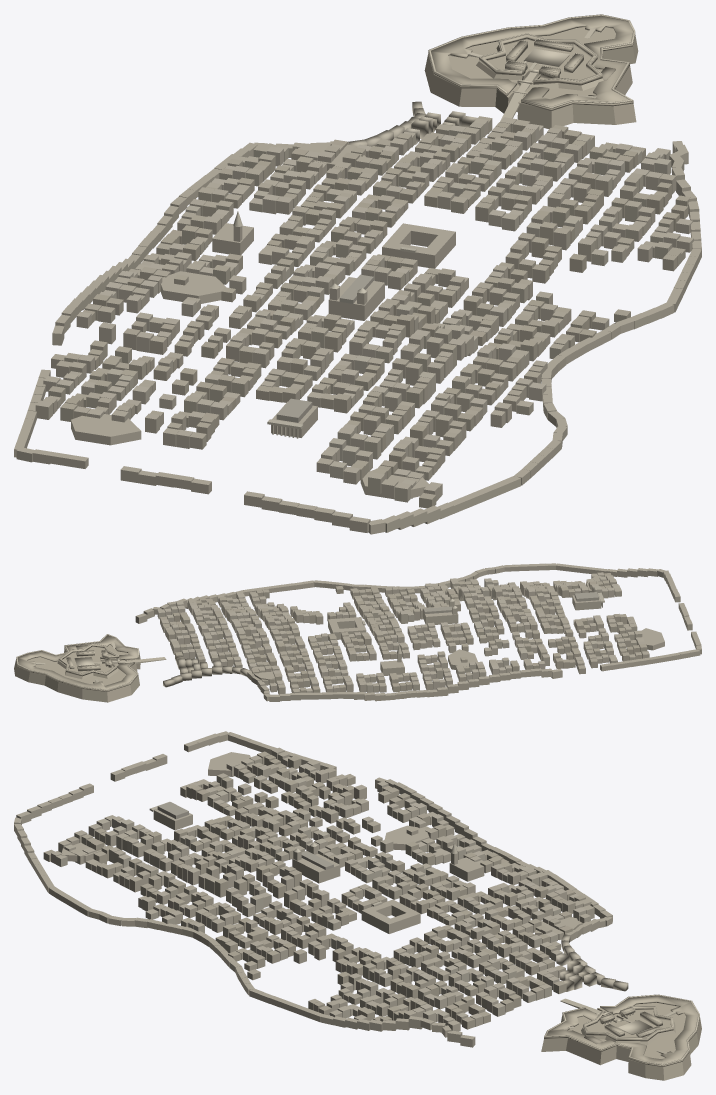
3 views of the same model, one above another, from view 1: azimuth 30°, elevation 25°; view 2: azimuth 150°, elevation 25°; view 3: azimuth 270°, elevation 25° (orthographic). The views are drawn at different scales.
Visible parts, largest first — view 1: City_12_8_Structure, City_9_11_Structure, City_11_9_Structure, City_10_10_Structure, City_10_9_Structure, City_9_10_Structure, City_10_11_Structure, City_11_10_Structure, City_8_10_Structure, City_8_11_Structure, City_9_9_Structure, City_9_12_Structure (+8 smaller); view 2: City_12_8_Structure, City_10_9_Structure, City_11_9_Structure, City_9_10_Structure, City_9_9_Structure, City_10_10_Structure, City_9_11_Structure, City_8_10_Structure, City_11_10_Structure, City_10_11_Structure, City_8_11_Structure, City_10_8_Structure (+8 smaller); view 3: City_10_10_Structure, City_11_9_Structure, City_12_8_Structure, City_9_11_Structure, City_10_11_Structure, City_10_9_Structure, City_9_10_Structure, City_11_10_Structure, City_9_9_Structure, City_8_10_Structure, City_8_11_Structure, City_9_12_Structure (+8 smaller).
Boxes of the visible parts, x1,y1,x2,y2 form: City_12_8_Structure: (424,14,638,128); City_9_11_Structure: (205,325,466,466); City_11_9_Structure: (357,116,620,222); City_10_10_Structure: (285,223,544,341); City_10_9_Structure: (179,142,421,264); City_9_10_Structure: (99,258,378,376); City_10_11_Structure: (375,314,587,431); City_11_10_Structure: (488,185,701,328); City_8_10_Structure: (22,294,197,433); City_8_11_Structure: (60,379,235,494); City_9_9_Structure: (88,196,272,302); City_9_12_Structure: (316,443,530,534); City_12_8_Structure: (14,634,140,702); City_10_9_Structure: (251,632,408,698); City_11_9_Structure: (167,607,299,670); City_9_10_Structure: (412,600,557,672); City_9_9_Structure: (354,645,505,701); City_10_10_Structure: (328,597,460,647); City_9_11_Structure: (473,581,614,633); City_8_10_Structure: (511,629,670,678); City_11_10_Structure: (210,582,367,624); City_10_11_Structure: (367,571,507,608); City_8_11_Structure: (575,603,697,652); City_10_8_Structure: (247,668,343,701); City_10_10_Structure: (259,848,420,957); City_11_9_Structure: (406,925,566,1009); City_12_8_Structure: (541,994,701,1080); City_9_11_Structure: (110,801,269,892); City_10_11_Structure: (122,857,269,956); City_10_9_Structure: (407,863,579,939); City_9_10_Structure: (259,797,429,872); City_11_10_Structure: (259,942,414,1022); City_9_9_Structure: (405,802,554,881); City_8_10_Structure: (257,743,416,808); City_8_11_Structure: (110,741,270,813); City_9_12_Structure: (14,815,120,897).
Bounding box in the file's own units: 1242 × 89.31 × 1116.
